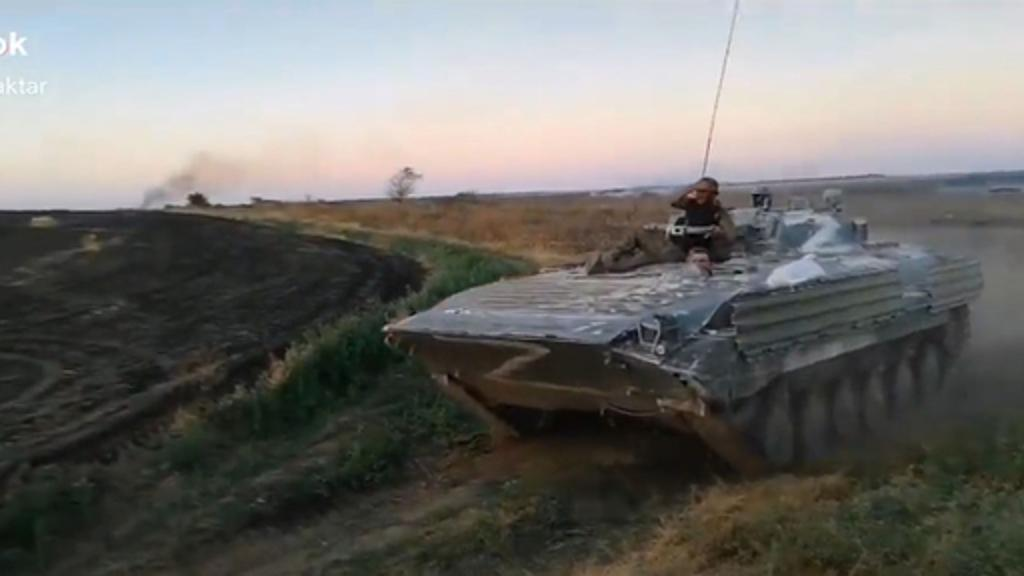APC-IFV: (382, 174, 986, 486)
